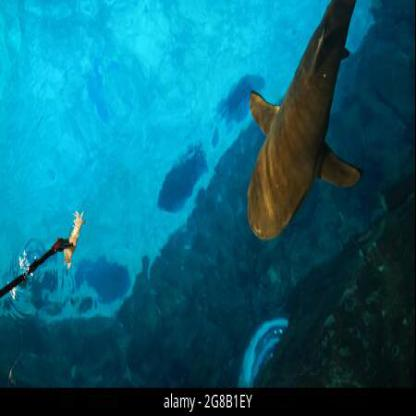zebra_shark: (229, 0, 392, 254)
